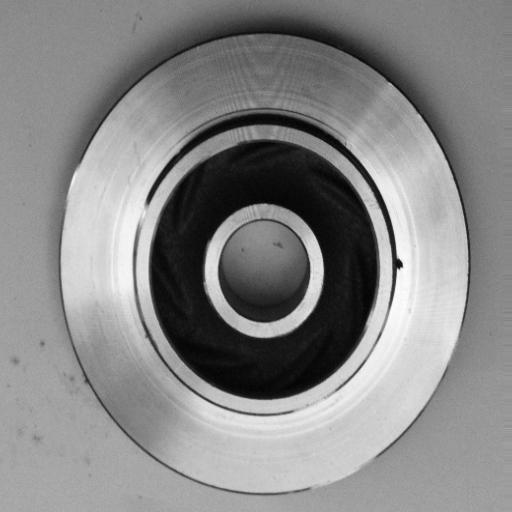crack: (387, 249, 411, 277)
unpolished_casting: (55, 28, 470, 498)
